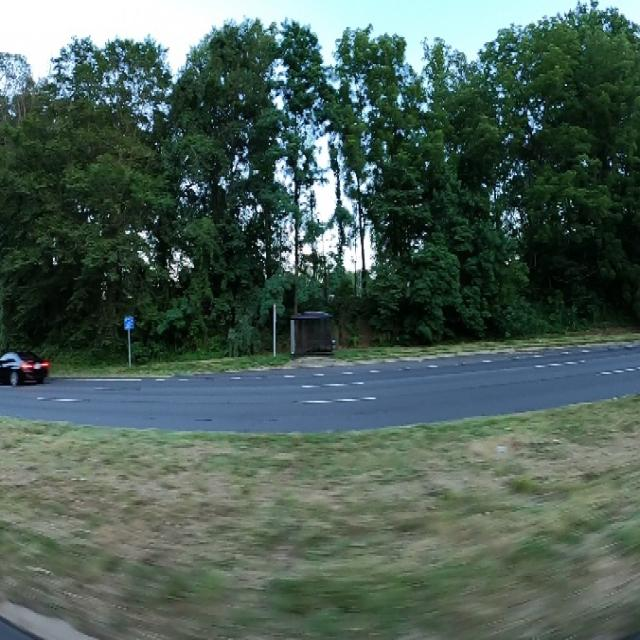cars: (0, 333, 51, 399)
